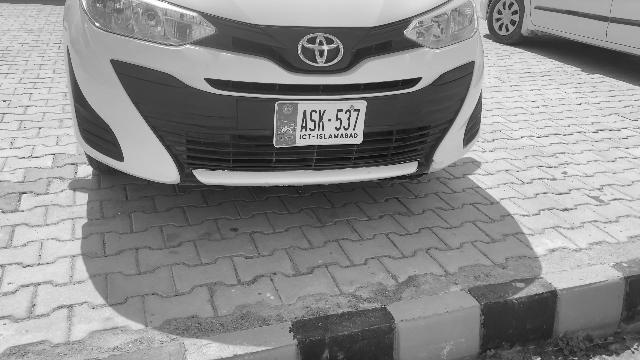Number: (299, 108, 362, 134)
